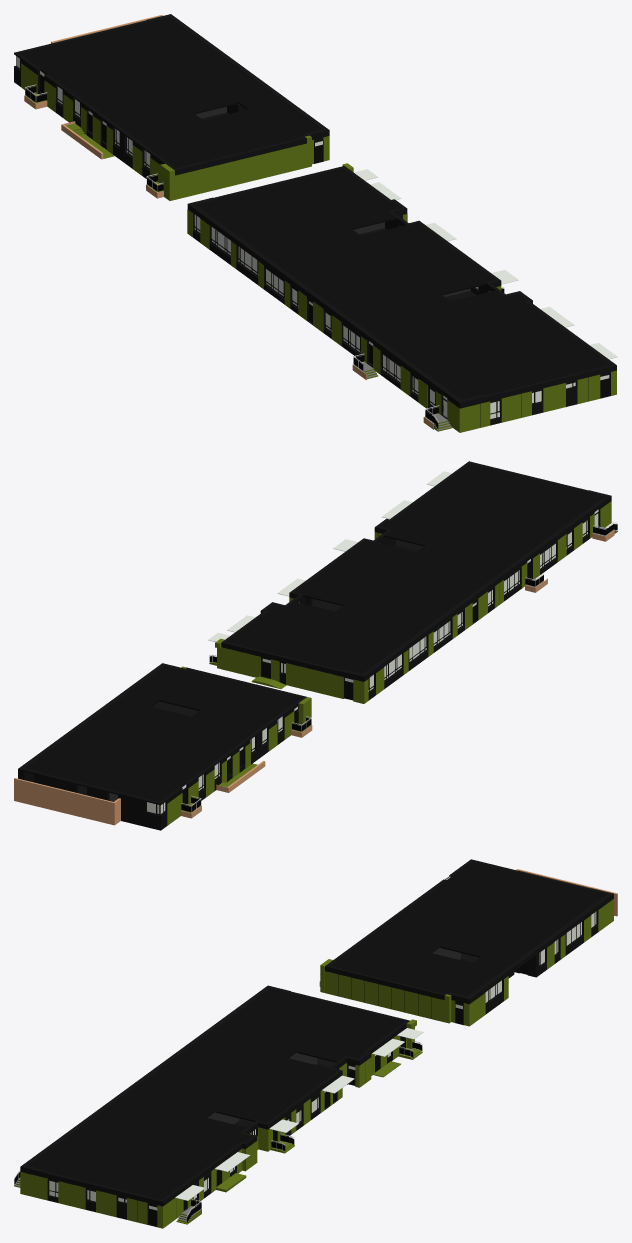
File: floor_1.FBX
The picture shows the model from 3 angles, top to bottom: view 1: azimuth 30°, elevation 25°; view 2: azimuth 150°, elevation 25°; view 3: azimuth 330°, elevation 25°; orthographic projection. The views are drawn at different scales.
Visible parts, largest first — view 1: floor_1; view 2: floor_1; view 3: floor_1.
Boxes of the visible parts, <box> form: floor_1: <box>14,14,617,432</box>; floor_1: <box>14,461,617,830</box>; floor_1: <box>14,859,617,1228</box>.
Size of the model in its own units: 25.96 by 4.31 by 109.
